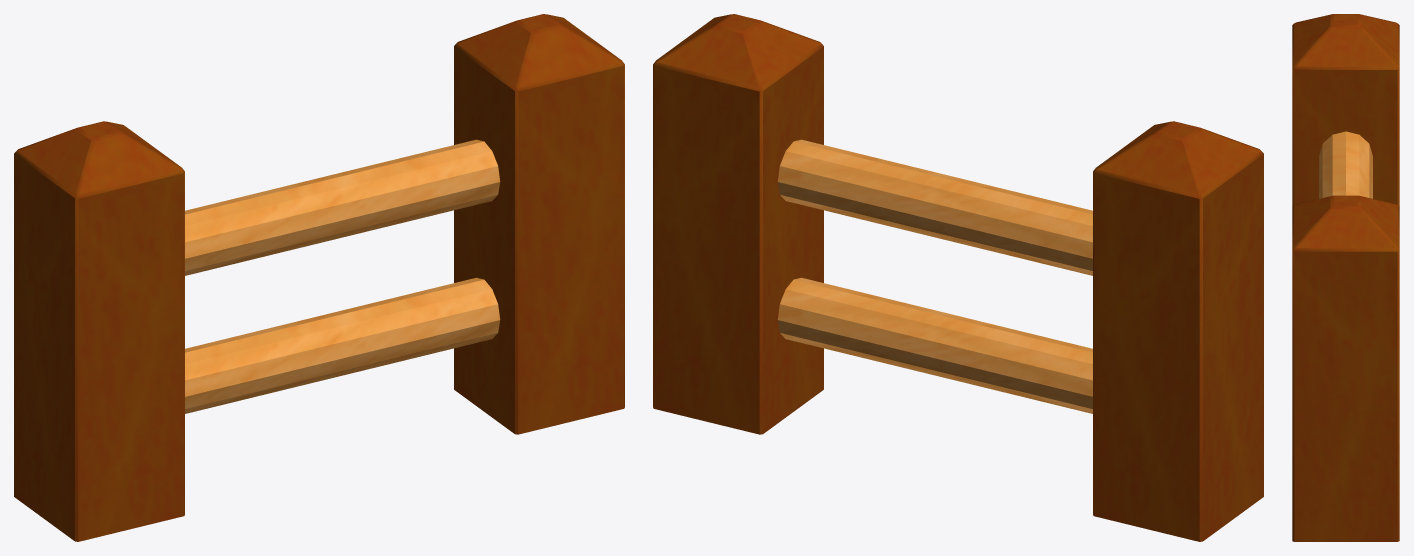
Rendered from FenceSegmentShort.fbx.
The picture shows the model from 3 angles, left to right: view 1: azimuth 30°, elevation 25°; view 2: azimuth 150°, elevation 25°; view 3: azimuth 270°, elevation 25°; orthographic projection. The views are drawn at different scales.
Visible parts, largest first — view 1: FenceSegmentShort; view 2: FenceSegmentShort; view 3: FenceSegmentShort.
Part boxes in pixels (x1,y1,x2,y2): FenceSegmentShort: (14,14,624,541); FenceSegmentShort: (653,14,1263,541); FenceSegmentShort: (1292,14,1399,541).
Size of the model in its own units: 5 by 3.27 by 1.
